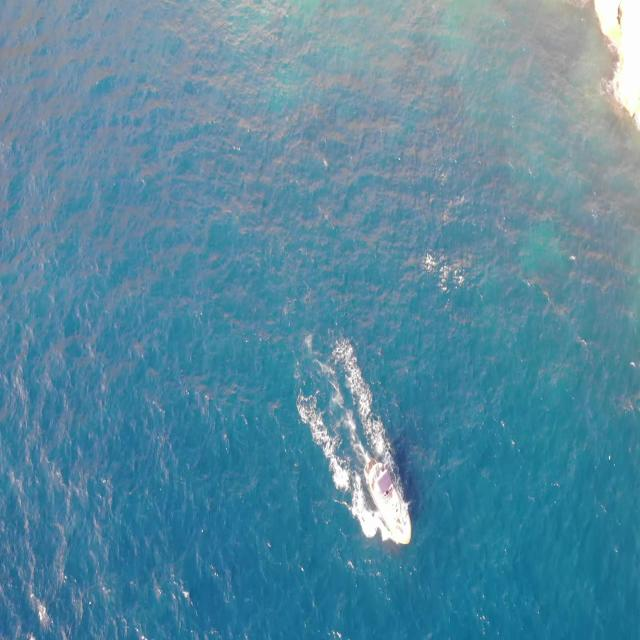boat: (362, 457, 412, 548)
